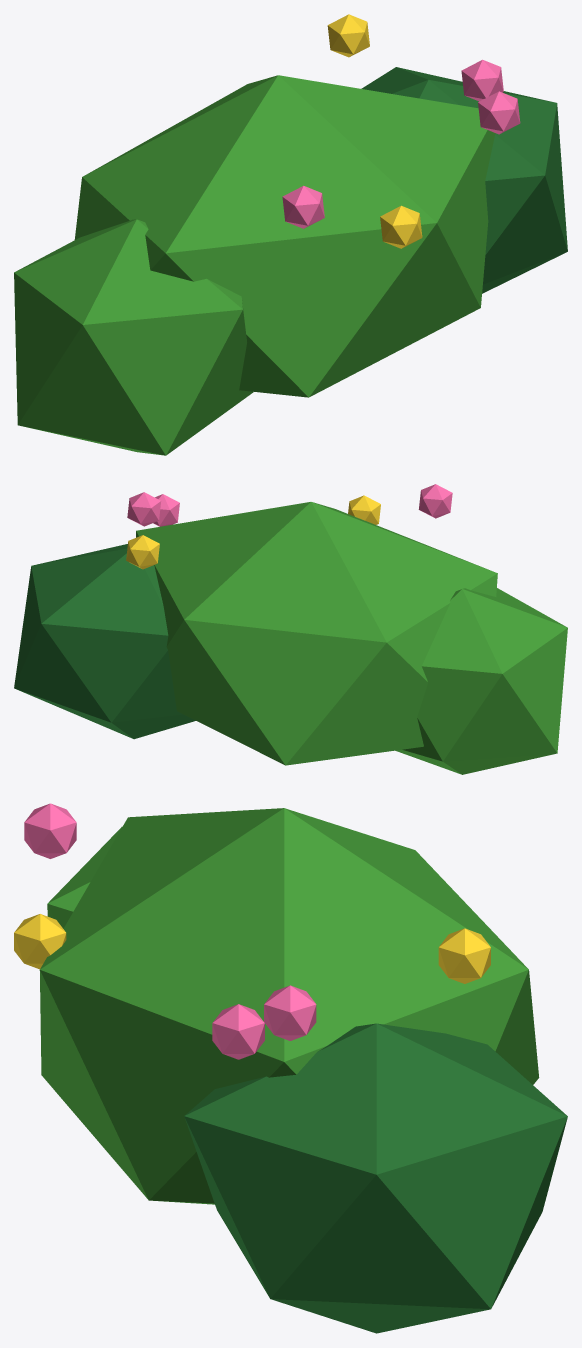
The model's file is bush.glb.
The picture shows the model from 3 angles, top to bottom: view 1: azimuth 30°, elevation 25°; view 2: azimuth 150°, elevation 25°; view 3: azimuth 270°, elevation 25°; orthographic projection. The views are drawn at different scales.
Visible parts, largest first — view 1: Bush; view 2: Bush; view 3: Bush.
Part boxes in pixels (box(x1,y1,x2,y2)): Bush: box(14, 14, 567, 455); Bush: box(14, 484, 567, 774); Bush: box(14, 803, 567, 1333).
Bounding box in the file's own units: 1.45 × 0.7375 × 0.8996.
